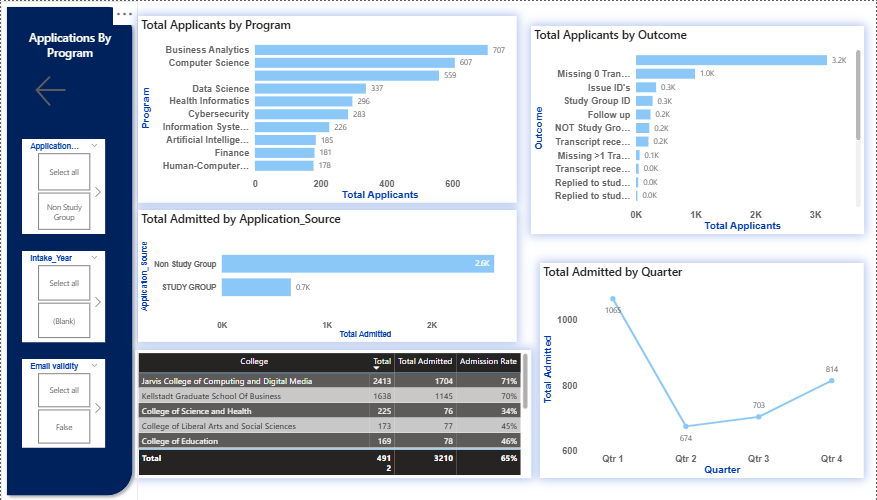

This screenshot's page, from the dashboard's own definition file:
{"tool":"powerbi","page":{"name":"Program analysis ","canvas":[1400,800],"ordinal":1},"visuals":[{"type":"tableEx","fields":{"Values":["DePaul_Data_With_Split_Dates.College_1st_Choice","Count(DePaul_Data_With_Split_Dates.Reference_ID)","DePaul_Data_With_Split_Dates.Total Admitted","DePaul_Data_With_Split_Dates.Admission Rate"]},"box":[214.4,558.4,633.6,204.8],"z":0},{"type":"shape","box":[0,0,219.2,800],"z":1000},{"type":"textbox","box":[25.6,40,169.6,73.6],"z":2000},{"type":"slicer","fields":{"Values":["DePaul_Data_With_Split_Dates.Application_Source"]},"box":[33.6,220.8,132.8,152],"z":3000},{"type":"slicer","fields":{"Values":["DePaul_Data_With_Split_Dates.Intake_Year"]},"box":[33.6,400,132.8,145.6],"z":4000},{"type":"slicer","fields":{"Values":["DePaul_Data_With_Split_Dates.email_valid"]},"box":[33.6,572.8,132.8,142.4],"z":5000},{"type":"clusteredBarChart","fields":{"Y":["Count(DePaul_Data_With_Split_Dates.Reference_ID)"],"Category":["DePaul_Data_With_Split_Dates.Program"]},"box":[219.2,24,606.4,299.2],"z":6000},{"type":"clusteredBarChart","fields":{"Category":["DePaul_Data_With_Split_Dates.Outcome_1"],"Y":["Count(DePaul_Data_With_Split_Dates.Reference_ID)"]},"box":[848,40,532.8,332.8],"z":7000},{"type":"clusteredBarChart","fields":{"Category":["DePaul_Data_With_Split_Dates.Application_Source"],"Y":["DePaul_Data_With_Split_Dates.Total Admitted"]},"box":[219.2,334.4,606.4,211.2],"z":8000},{"type":"lineChart","fields":{"Category":["DePaul_Data_With_Split_Dates.Admit_Date_only.Variation.Date Hierarchy.Year","DePaul_Data_With_Split_Dates.Admit_Date_only.Variation.Date Hierarchy.Quarter","DePaul_Data_With_Split_Dates.Admit_Date_only.Variation.Date Hierarchy.Month","DePaul_Data_With_Split_Dates.Admit_Date_only.Variation.Date Hierarchy.Day"],"Y":["DePaul_Data_With_Split_Dates.Total Admitted"]},"box":[862.4,419.2,518.4,344],"z":9000},{"type":"actionButton","box":[49.6,113.6,75.2,60.8],"z":9002}]}

Visuals, with their boxes in screenshot pixels (x1, y1, x2, y2), scaled from the page's 1400x800 canvas onto the 877x500 screenshot:
tableEx - DePaul_Data_With_Split_Dates.College_1st_Choice x Count(DePaul_Data_With_Split_Dates.Reference_ID): {"x1": 134, "y1": 349, "x2": 531, "y2": 477}
shape: {"x1": 0, "y1": 0, "x2": 137, "y2": 499}
textbox: {"x1": 16, "y1": 25, "x2": 122, "y2": 71}
slicer - DePaul_Data_With_Split_Dates.Application_Source: {"x1": 21, "y1": 138, "x2": 104, "y2": 233}
slicer - DePaul_Data_With_Split_Dates.Intake_Year: {"x1": 21, "y1": 250, "x2": 104, "y2": 341}
slicer - DePaul_Data_With_Split_Dates.email_valid: {"x1": 21, "y1": 358, "x2": 104, "y2": 447}
clusteredBarChart - Count(DePaul_Data_With_Split_Dates.Reference_ID) x DePaul_Data_With_Split_Dates.Program: {"x1": 137, "y1": 15, "x2": 517, "y2": 202}
clusteredBarChart - DePaul_Data_With_Split_Dates.Outcome_1 x Count(DePaul_Data_With_Split_Dates.Reference_ID): {"x1": 531, "y1": 25, "x2": 865, "y2": 233}
clusteredBarChart - DePaul_Data_With_Split_Dates.Application_Source x DePaul_Data_With_Split_Dates.Total Admitted: {"x1": 137, "y1": 209, "x2": 517, "y2": 341}
lineChart - DePaul_Data_With_Split_Dates.Admit_Date_only.Variation.Date Hierarchy.Year x DePaul_Data_With_Split_Dates.Admit_Date_only.Variation.Date Hierarchy.Quarter: {"x1": 540, "y1": 262, "x2": 865, "y2": 477}
actionButton: {"x1": 31, "y1": 71, "x2": 78, "y2": 109}
